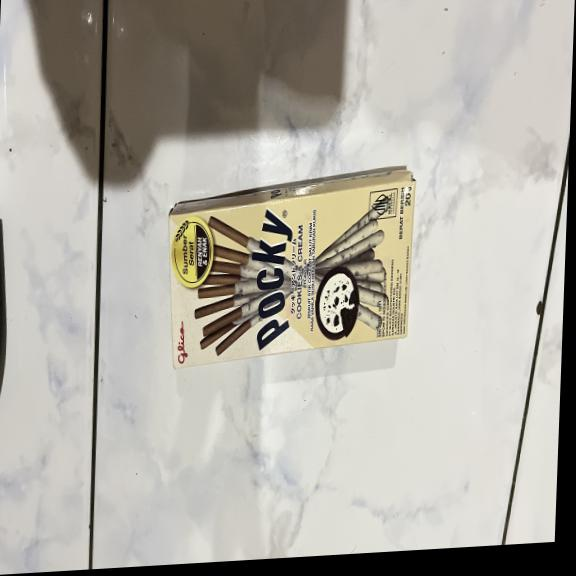Kertas: (161, 152, 416, 363)
